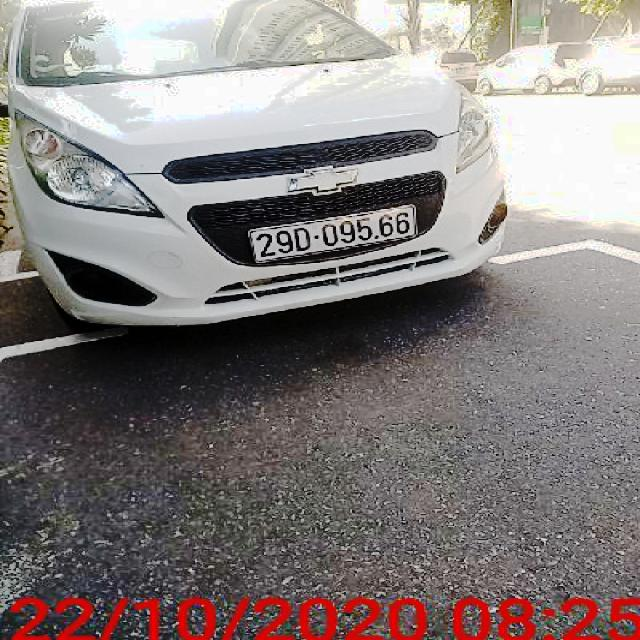license_plate: (252, 206, 418, 263)
